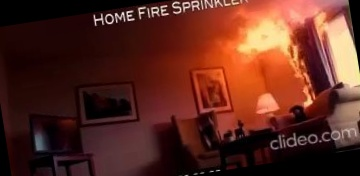fire: (223, 2, 304, 69)
